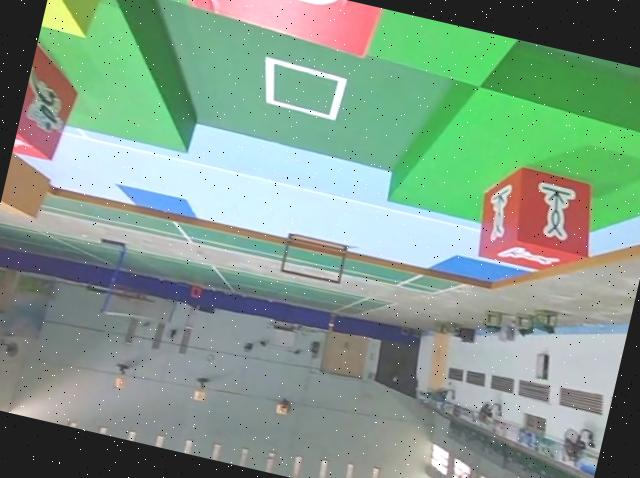R1: (12, 40, 85, 165)
R2 Fake: (151, 0, 379, 60)
R2 Real: (469, 154, 606, 283)
